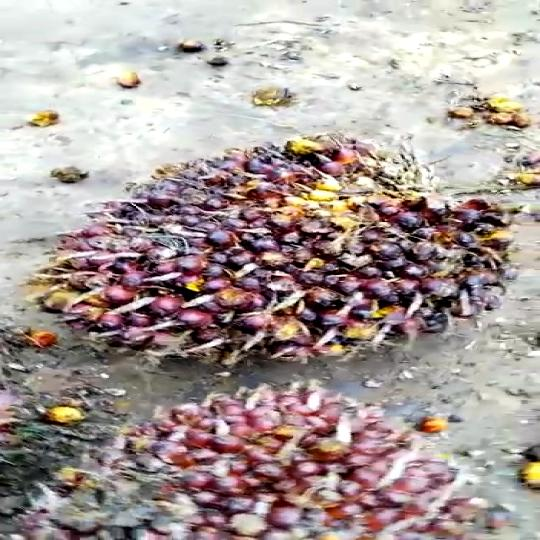kurang masak: (23, 123, 540, 364), (20, 378, 540, 540)
